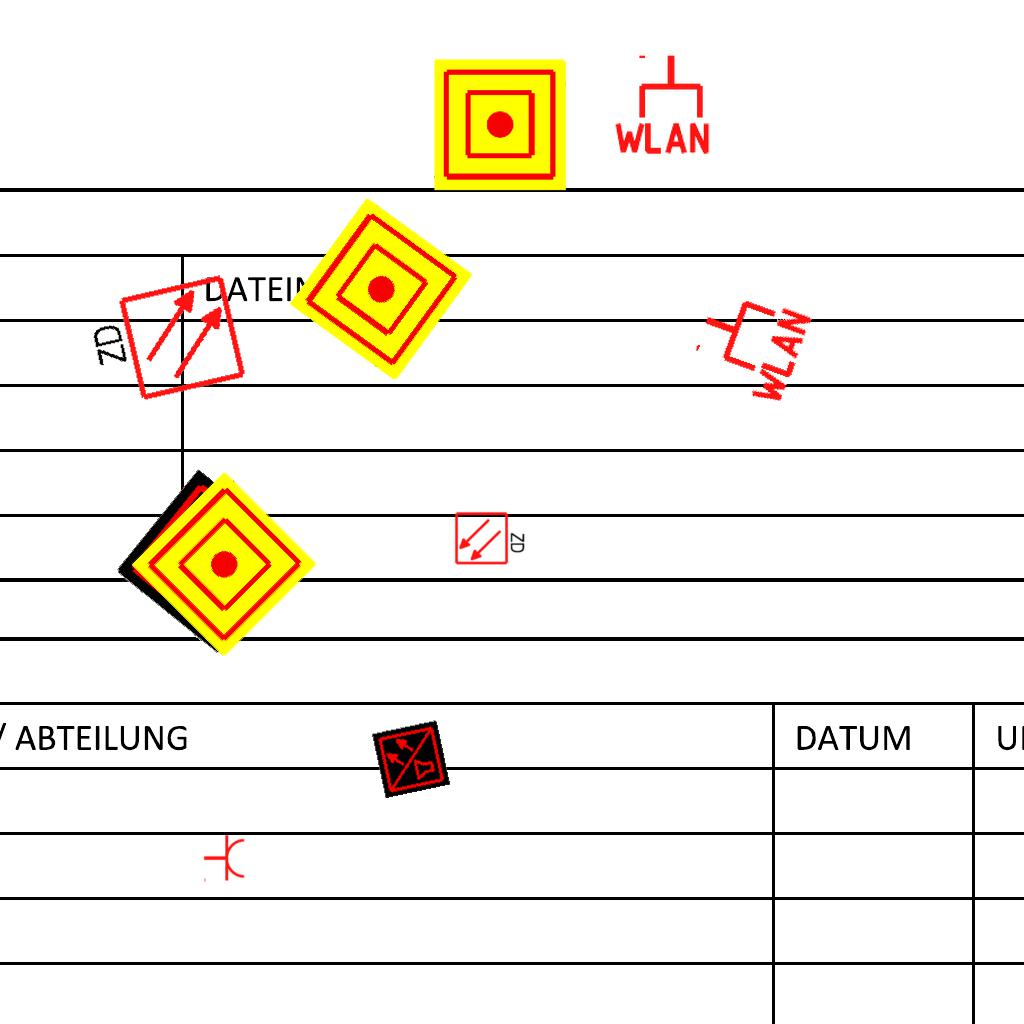NAM-Nichtautomatischer_Melder: (130, 470, 318, 658), (288, 196, 474, 382), (434, 59, 566, 191)
OKW_Multisensormelder_(Kombination_optischer_Rauch-Kahlenmonoxid_Waerme-Melder): (115, 469, 301, 655), (371, 719, 451, 799)
Schukosteckdose_einfach: (203, 834, 246, 884)
WLAN: (681, 278, 816, 412), (610, 51, 714, 156)
ZD_Melder_in_Zwischendecke_mit_Revisionsoeffnung_mind_40_x_40_cm: (78, 271, 250, 416), (454, 509, 528, 566)
